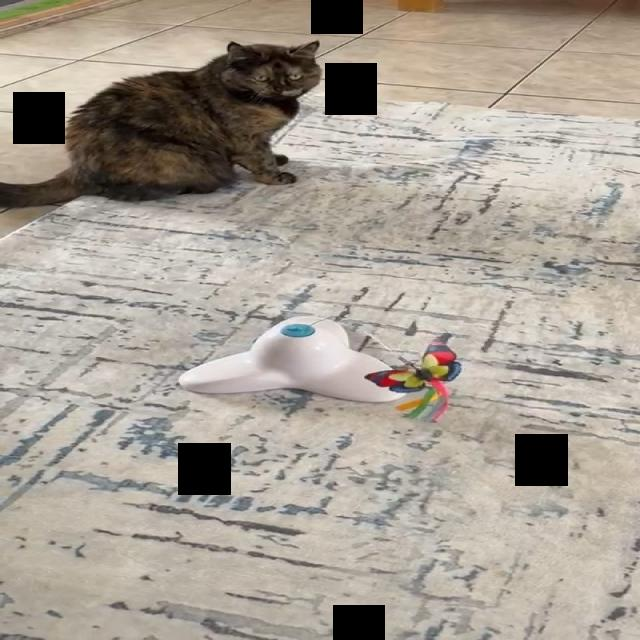authorized: (0, 38, 321, 208)
